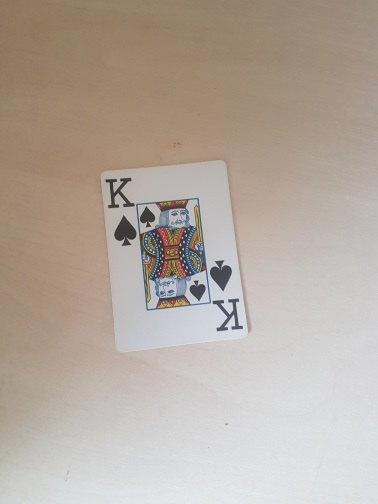king: (99, 162, 249, 349)
